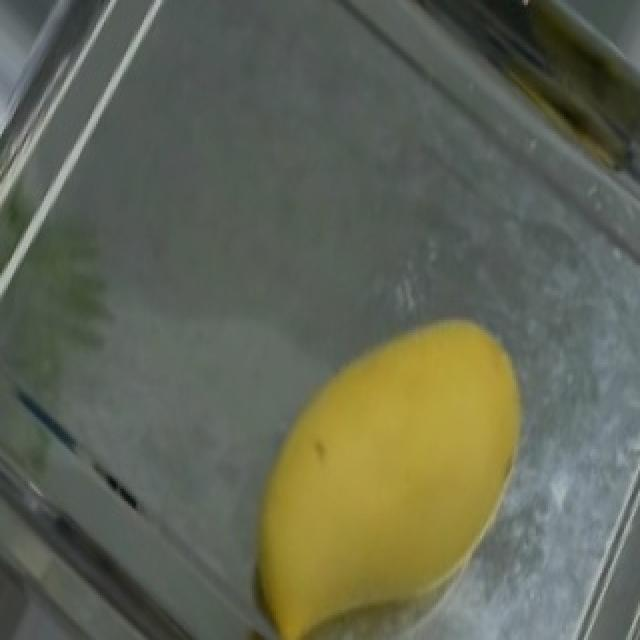fruit: (214, 270, 580, 640)
